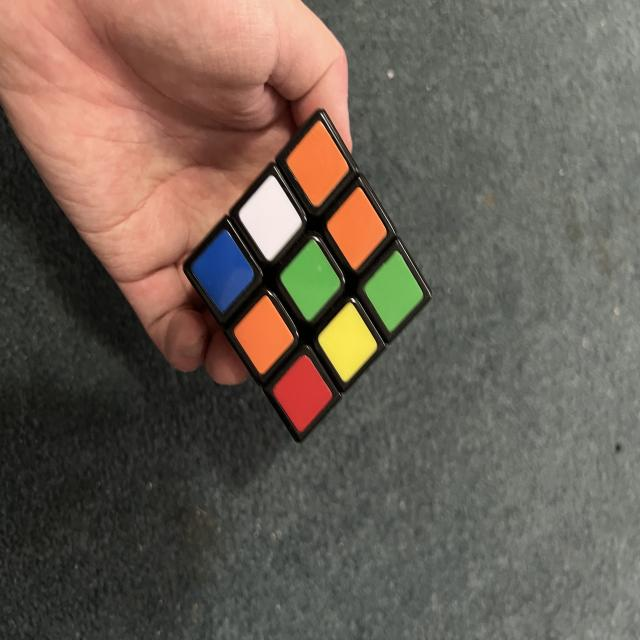blue: (182, 228, 264, 315)
center: (271, 239, 350, 322)
green: (269, 234, 353, 323), (354, 249, 433, 333)
orange: (276, 119, 359, 209), (316, 185, 397, 272), (224, 294, 303, 376)
red: (264, 352, 342, 435)
white: (228, 173, 312, 262)
yellow: (308, 300, 387, 384)
